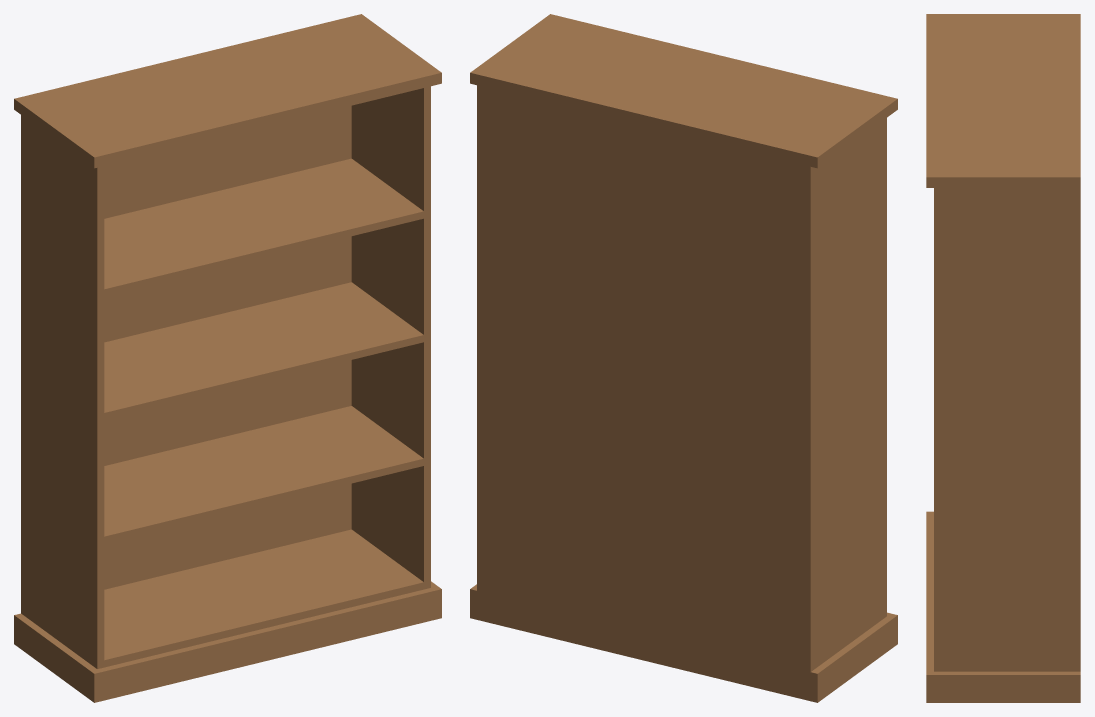
File: Cupboard.fbx
3 views of the same model, side by side, from view 1: azimuth 30°, elevation 25°; view 2: azimuth 150°, elevation 25°; view 3: azimuth 270°, elevation 25° (orthographic). The views are drawn at different scales.
Parts seen in each view (by area): view 1: Props_Cupboard; view 2: Props_Cupboard; view 3: Props_Cupboard.
Boxes of the visible parts, bbox=[...] form: Props_Cupboard: bbox=[14, 14, 441, 702]; Props_Cupboard: bbox=[470, 14, 897, 702]; Props_Cupboard: bbox=[926, 14, 1080, 702].
Bounding box in the file's own units: 1 × 1.5 × 0.4.
